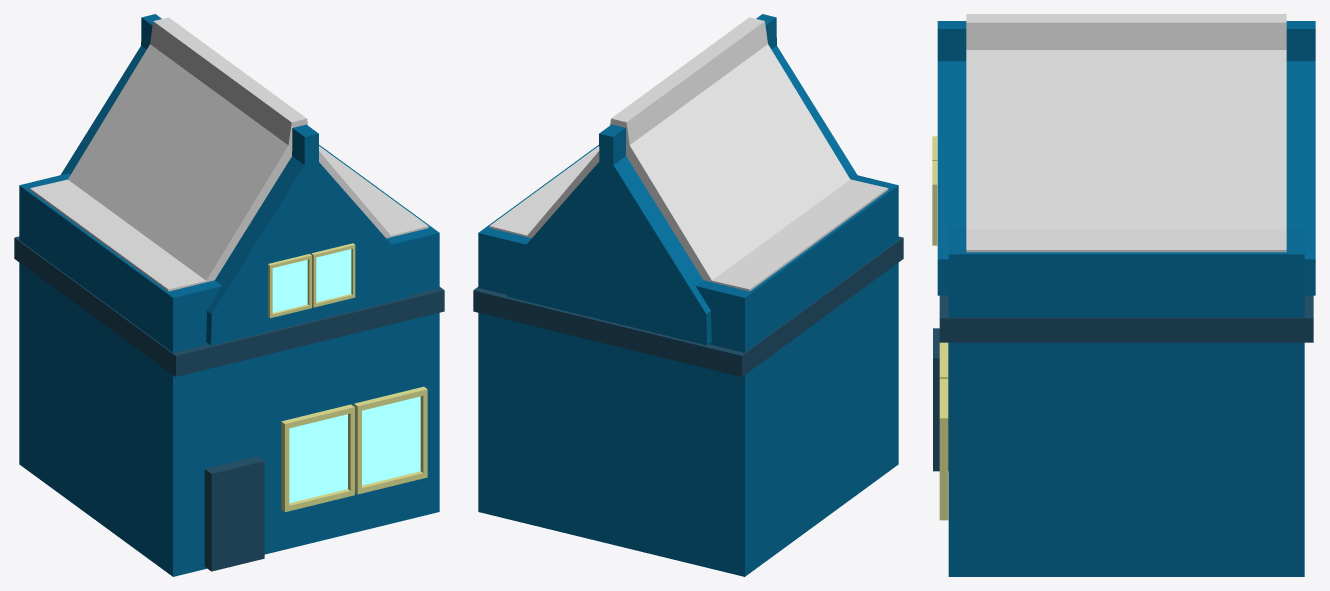
File: D_House3.fbx
The picture shows the model from 3 angles, left to right: view 1: azimuth 30°, elevation 25°; view 2: azimuth 150°, elevation 25°; view 3: azimuth 270°, elevation 25°; orthographic projection. The views are drawn at different scales.
Visible parts, largest first — view 1: Cube.042; view 2: Cube.042; view 3: Cube.042.
Boxes of the visible parts, x1,y1,x2,y2 form: Cube.042: [14, 14, 444, 576]; Cube.042: [473, 14, 903, 576]; Cube.042: [932, 14, 1315, 576].
Size of the model in its own units: 480 by 713 by 512.
